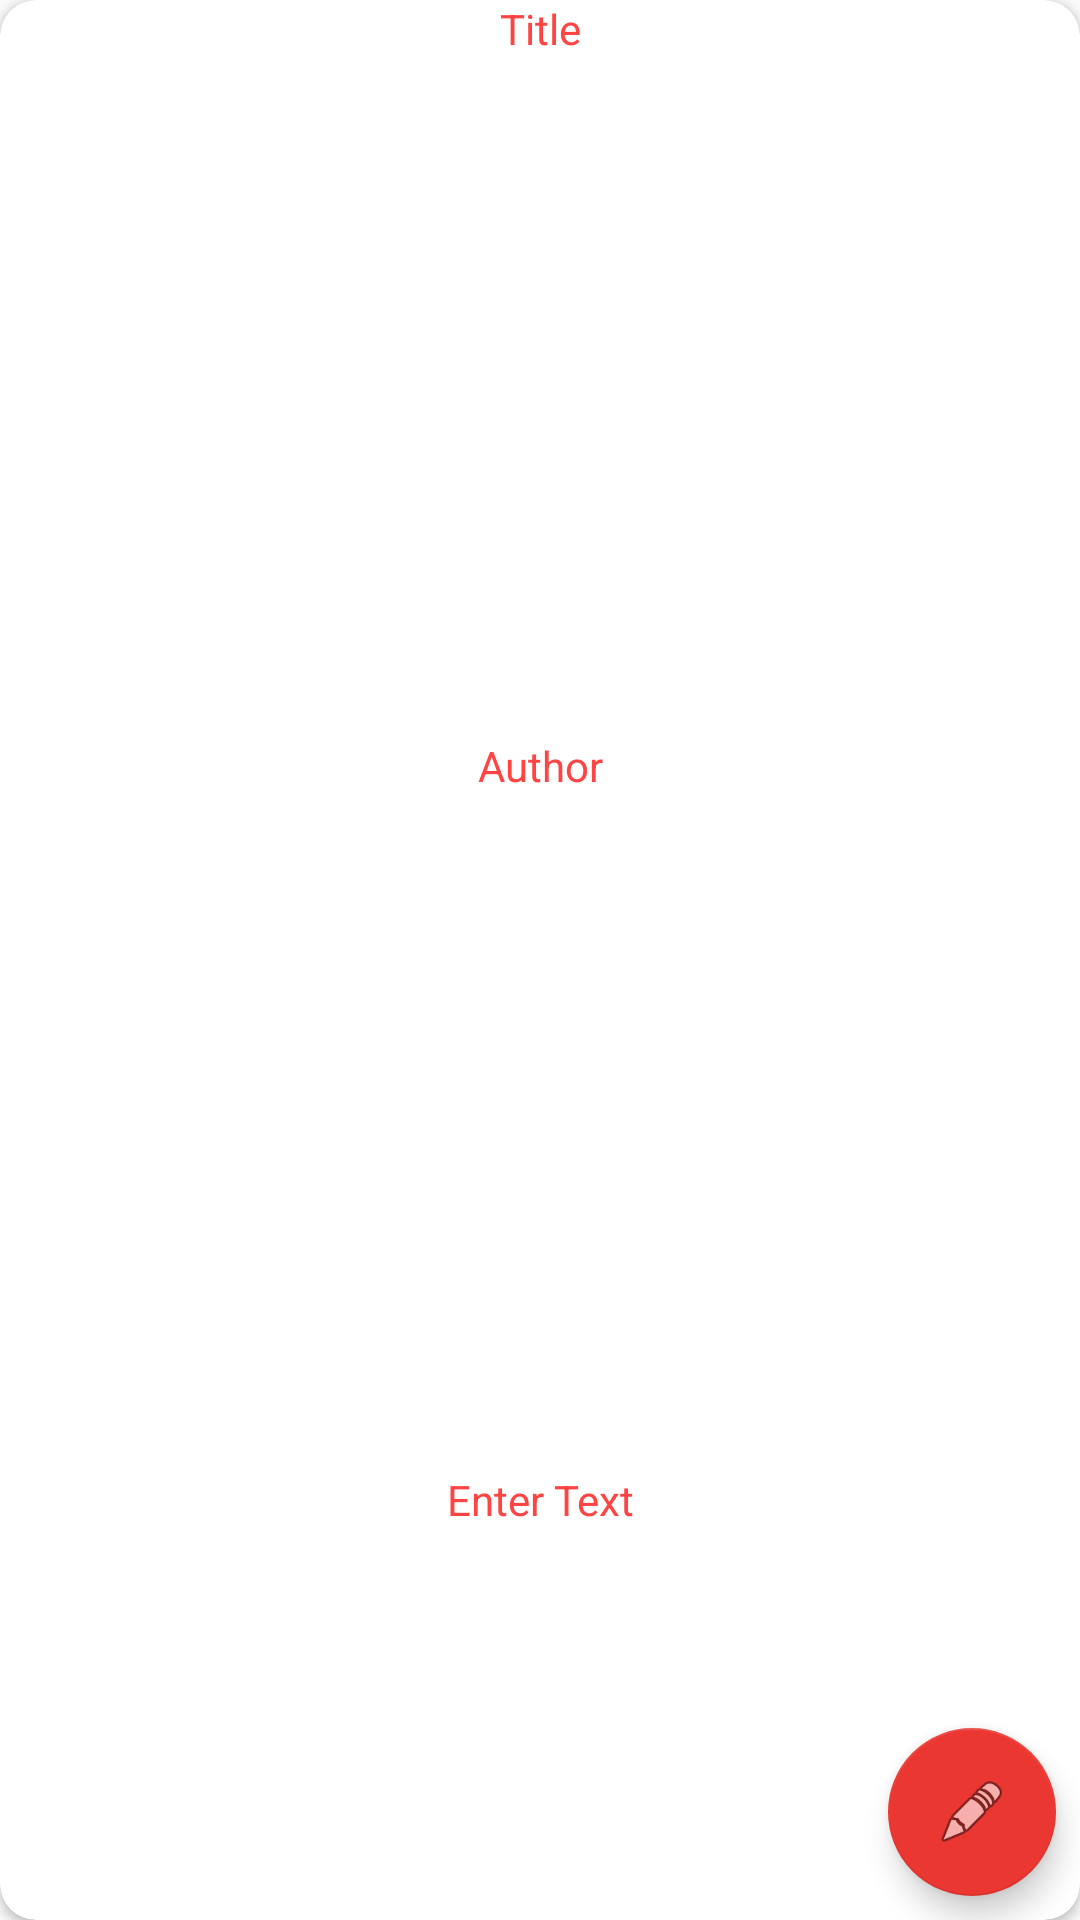

Icons on this 1080w x 1920h Android screen, each with its box as (x1, y1, x2, y2):
edit: (888, 1728, 1056, 1896)
